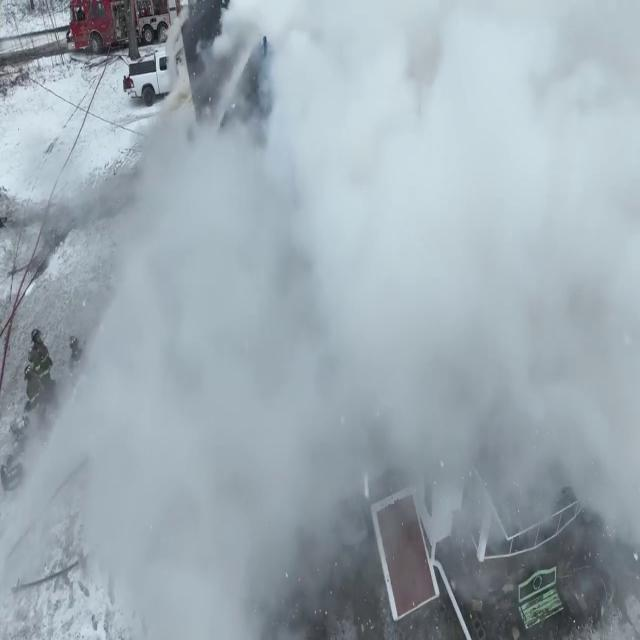Smoke: (6, 0, 638, 620)
